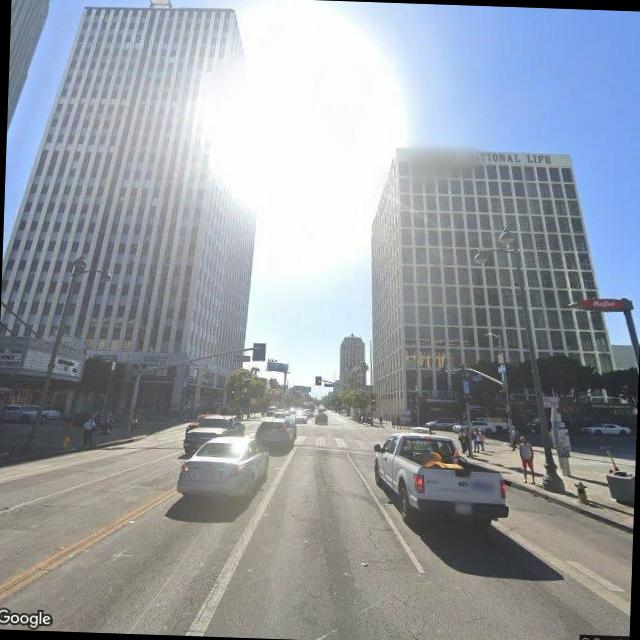pothole: (349, 494, 393, 560)
